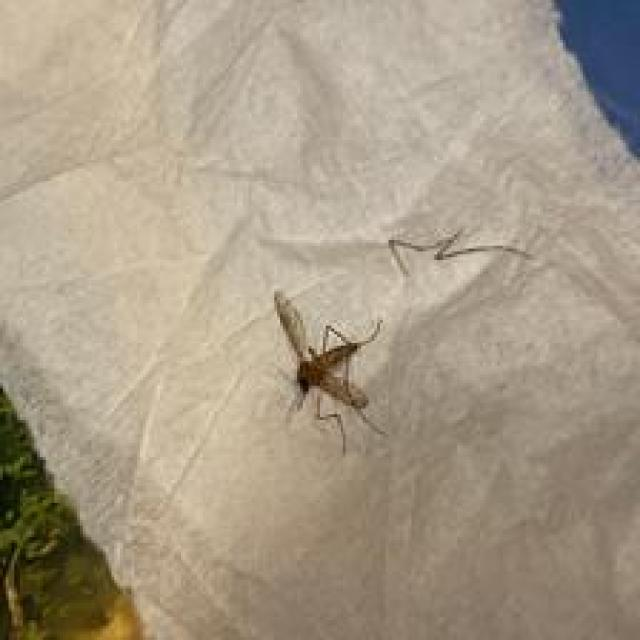Culex: (272, 287, 388, 456)
